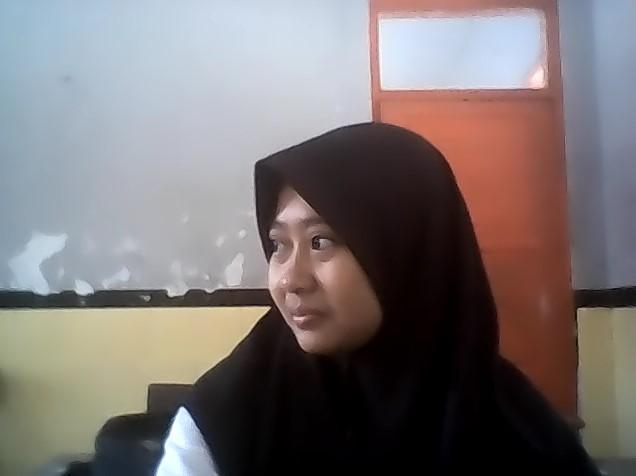cheating: (111, 108, 605, 476)
